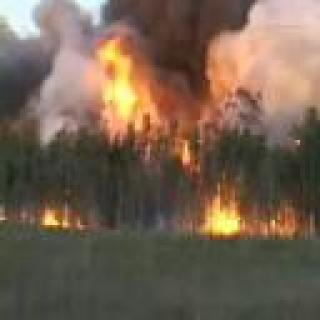fire: (100, 19, 162, 144), (199, 183, 242, 233), (34, 202, 98, 226), (268, 198, 302, 232)
